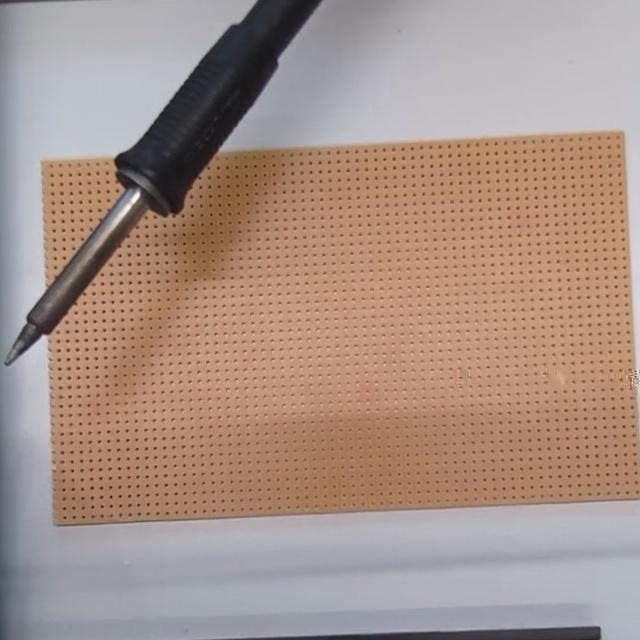soldering_iron: (0, 0, 315, 367)
